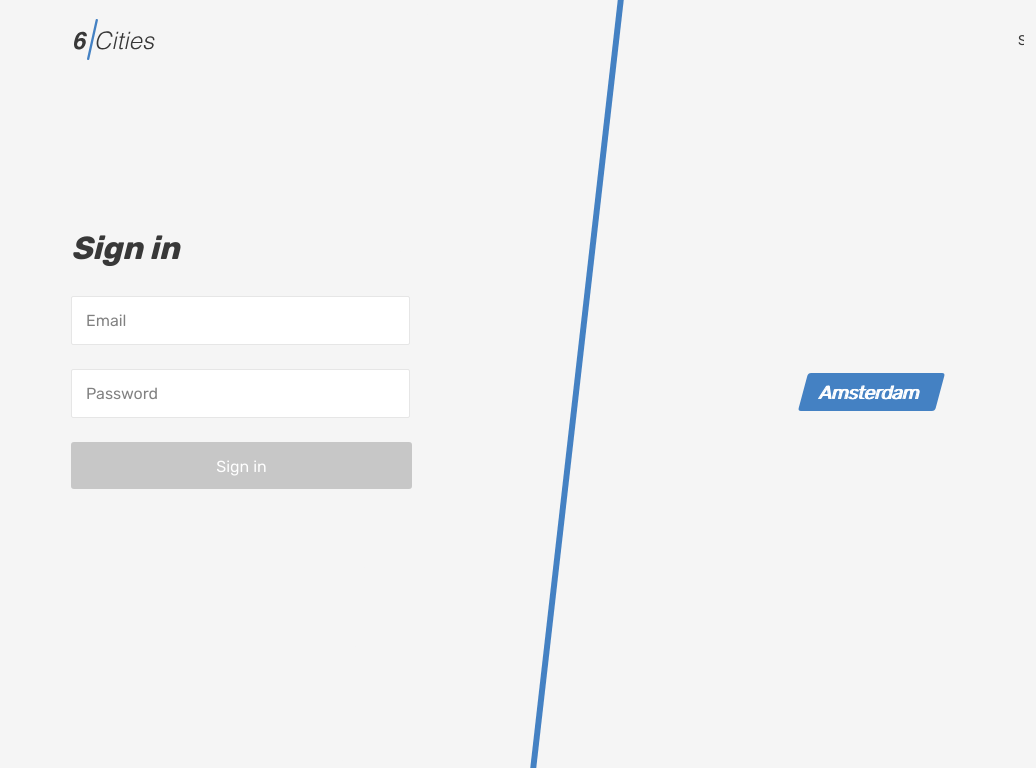
Test case: login-page › submit button › Should be active if email is valid and password input not empty
Type "testEmail@gmail.com" into the field with placeholder "Email" at (240, 320), box [71,296,410,345]
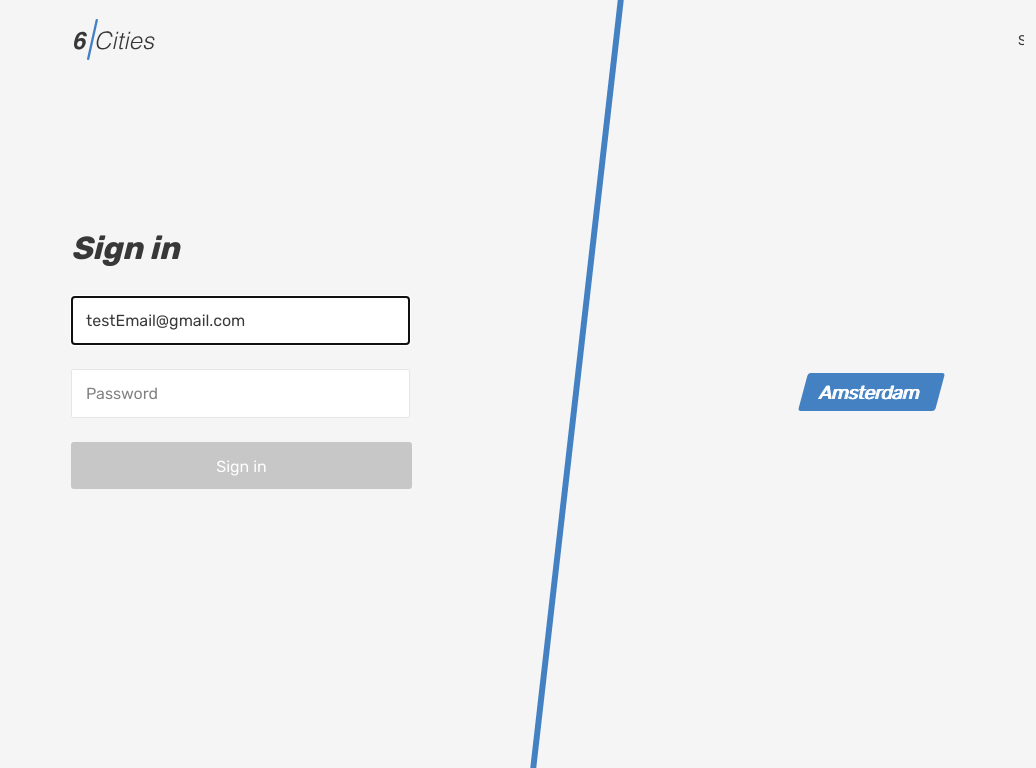
Type "1234" into the password field with placeholder "Password" at (240, 393), box [71,369,410,418]
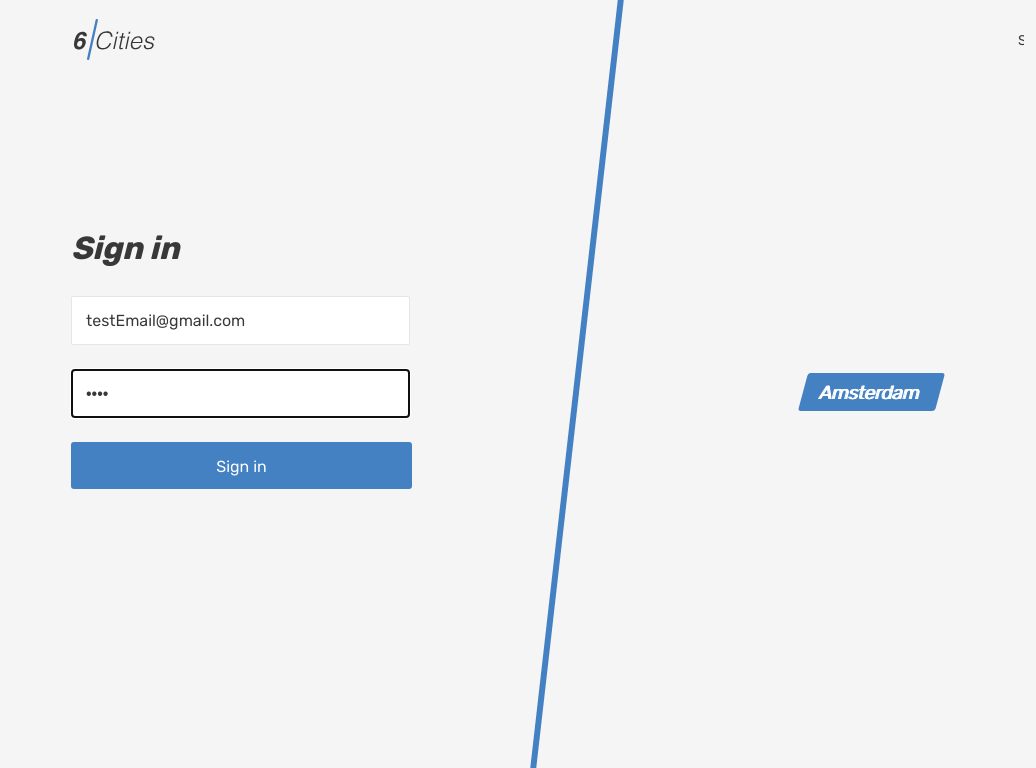
expect the button is enabled: met, box [71,442,412,489]
